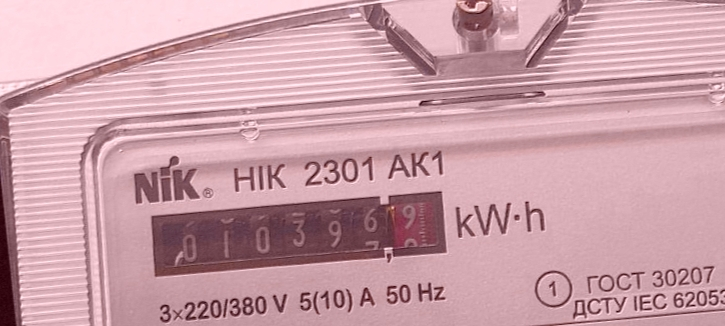0: (251, 222, 276, 257), (178, 230, 201, 264)
1: (219, 226, 235, 260)
3: (289, 216, 311, 251)
6: (359, 204, 383, 235)
9: (324, 216, 347, 251), (397, 201, 421, 233)
screen: (134, 172, 461, 299)
